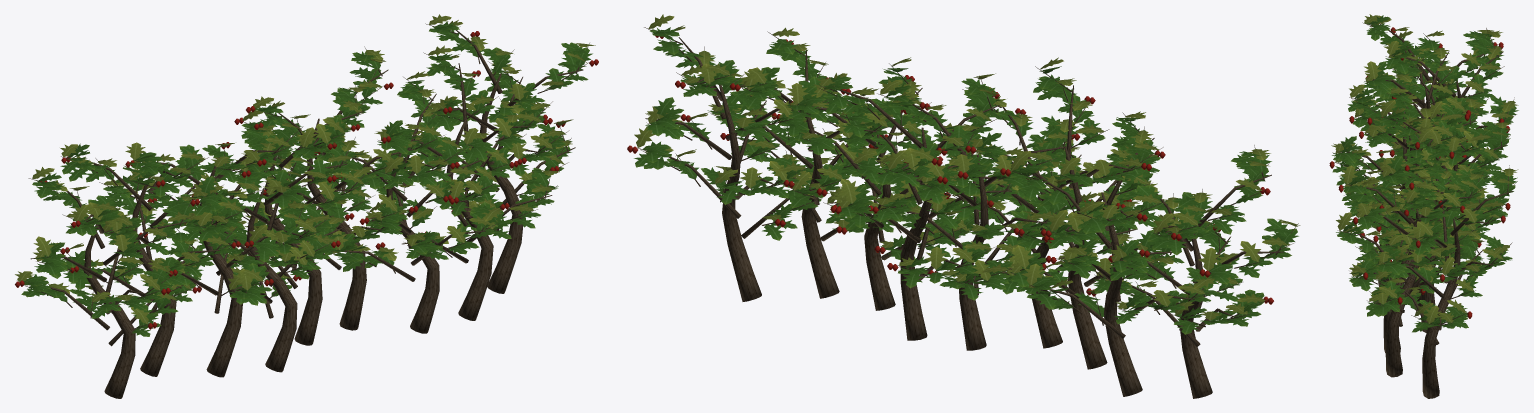
The model's file is frontier_sunmeadow_hawthorn_lod0.glb.
The picture shows the model from 3 angles, left to right: view 1: azimuth 30°, elevation 25°; view 2: azimuth 150°, elevation 25°; view 3: azimuth 270°, elevation 25°; orthographic projection. The views are drawn at different scales.
Parts seen in each view (by area): view 1: frontier_sunmeadow_hawthorn_LOD0; view 2: frontier_sunmeadow_hawthorn_LOD0; view 3: frontier_sunmeadow_hawthorn_LOD0.
Part boxes in pixels (x1,y1,x2,y2): frontier_sunmeadow_hawthorn_LOD0: [15, 14, 598, 398]; frontier_sunmeadow_hawthorn_LOD0: [627, 14, 1300, 398]; frontier_sunmeadow_hawthorn_LOD0: [1329, 14, 1518, 398].
Bounding box in the file's own units: 4.77 × 2.01 × 1.53.
Materials: 2 (2 with a texture image).
